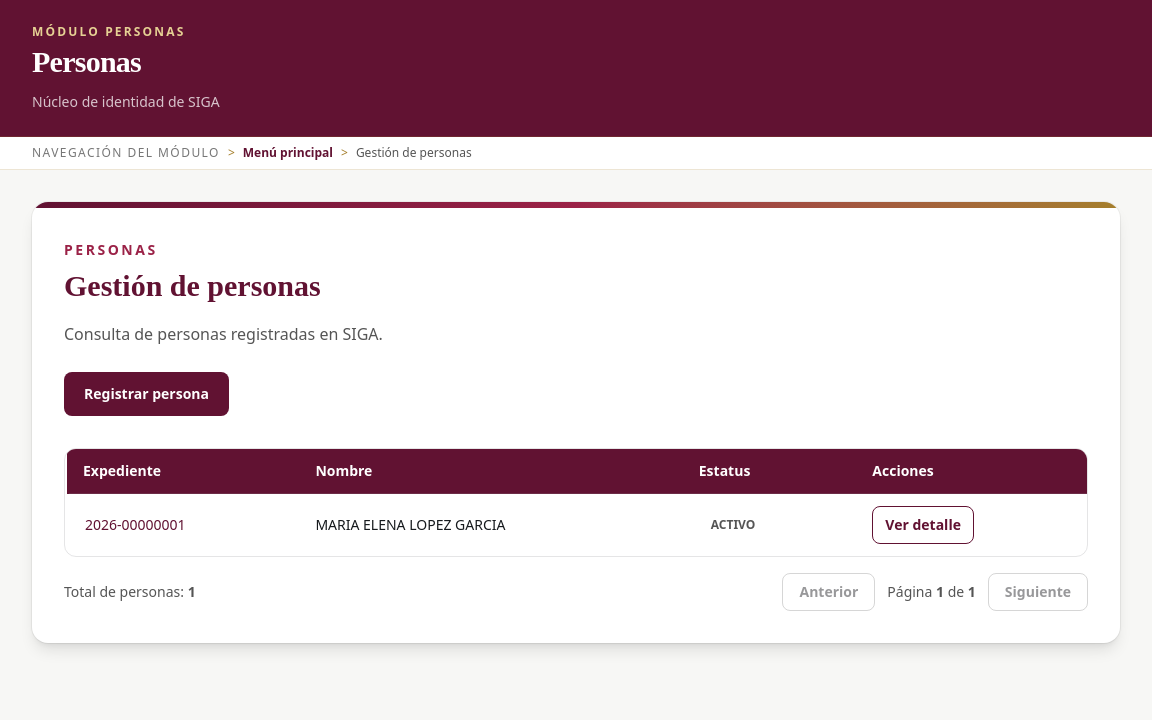
Test case: PersonasPageComponent › consulta y muestra el detalle de la persona seleccionada
Click the button with test id "persona-view-detail". click: (923, 525)
box: [872, 506, 974, 544]
(page scrolled)
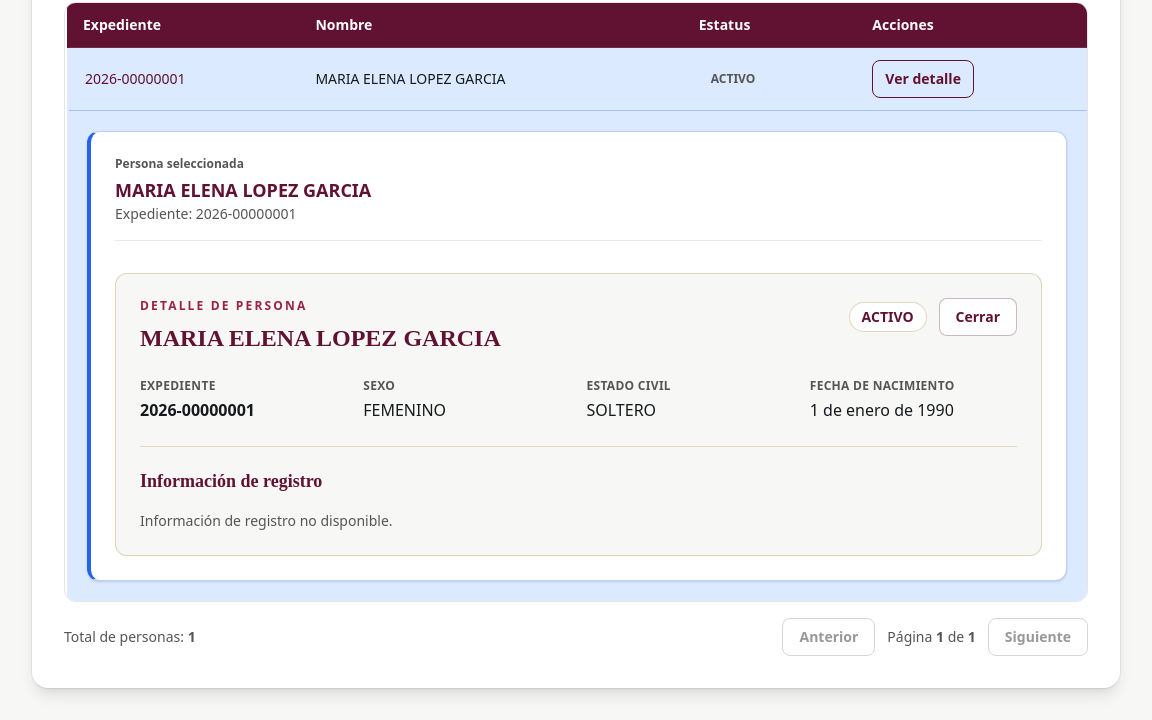
Expected: the element with test id "persona-detail" is shown, [115, 273, 1042, 556]
Expected: the element with test id "persona-detail" shows "2026-00000001", [140, 399, 255, 421]
Expected: the element with test id "persona-detail" shows "MARIA ELENA LOPEZ GARCIA", [140, 325, 501, 351]
